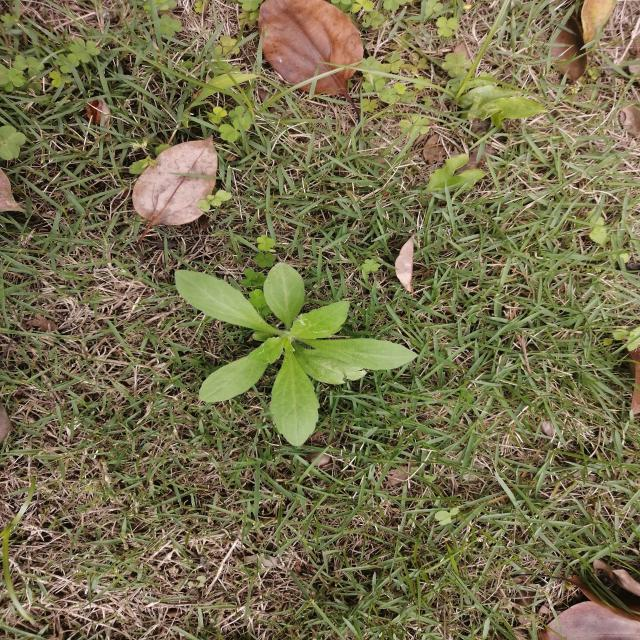horseweed: (173, 262, 412, 442)
